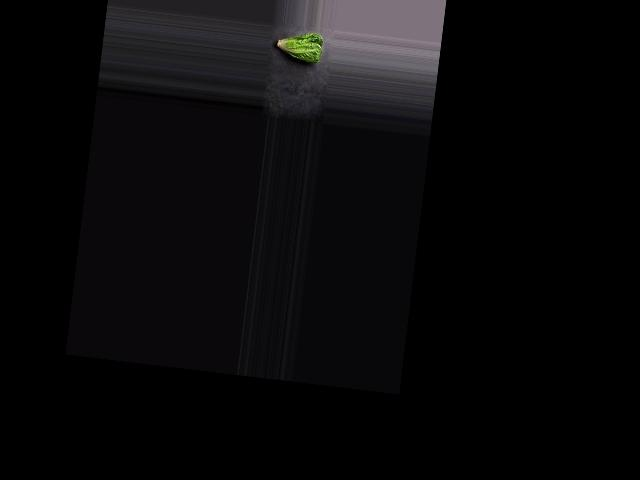lettuce: (271, 27, 324, 65)
